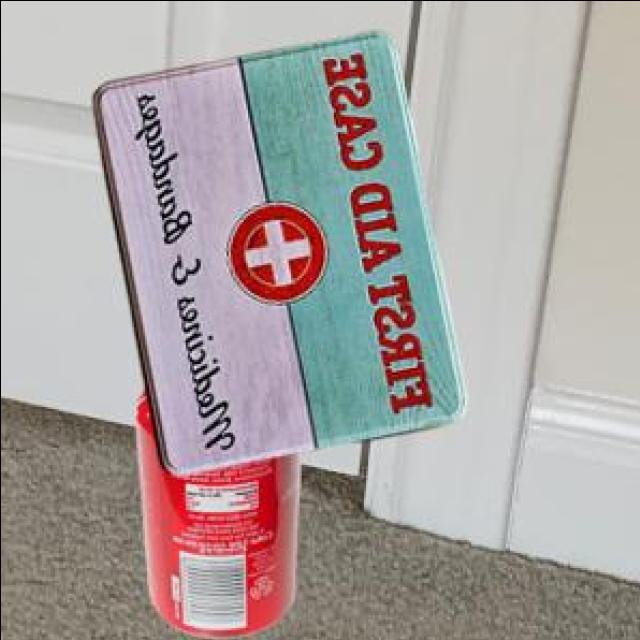logam: (96, 27, 469, 471), (136, 381, 304, 635)
